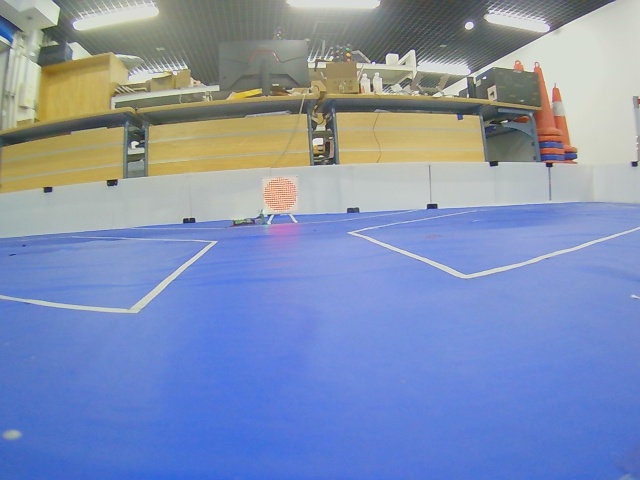red: (263, 177, 298, 214)
